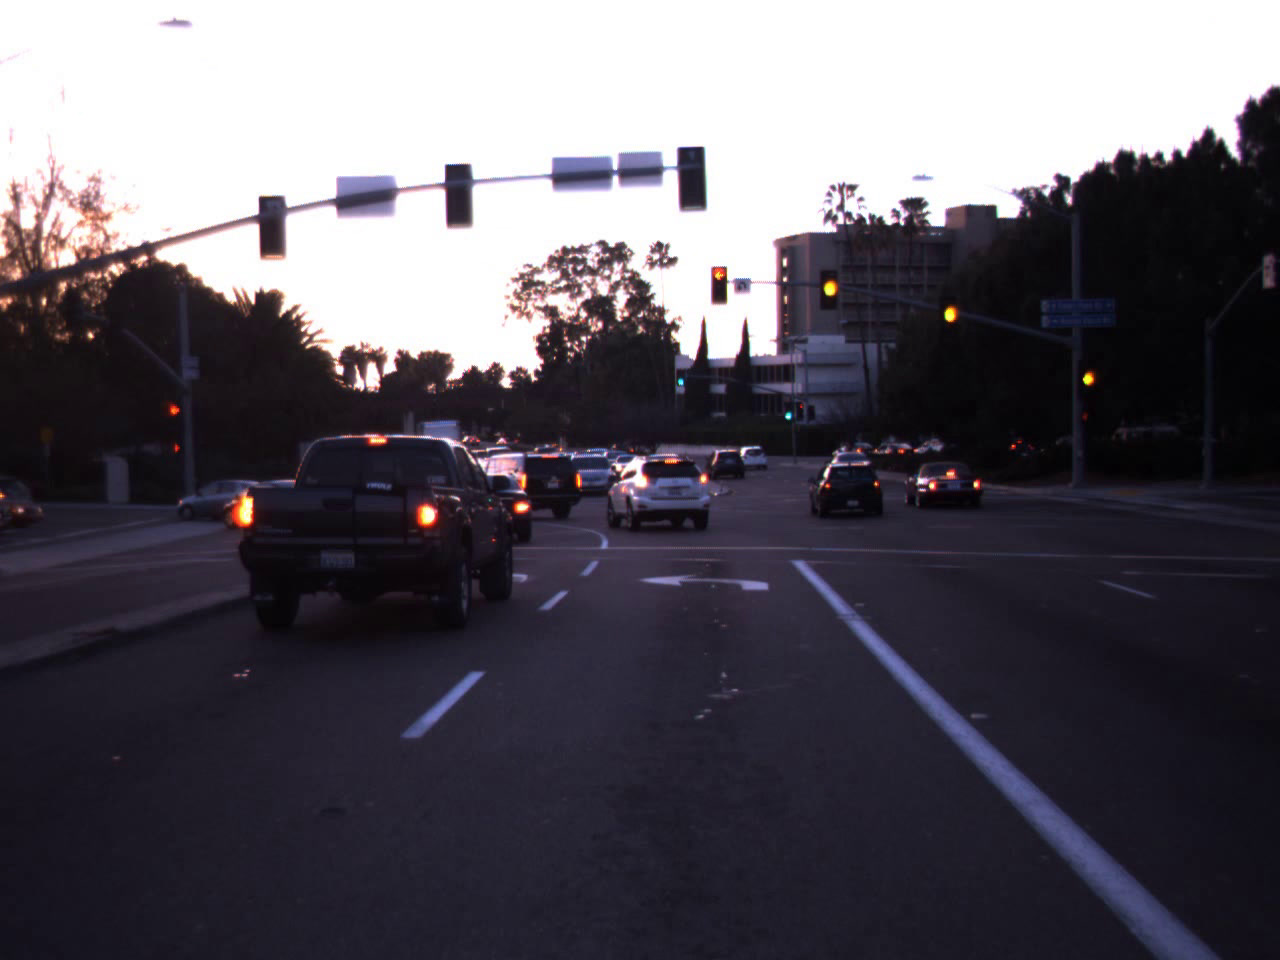go: (675, 362, 687, 387), (783, 399, 795, 419)
stop: (699, 264, 738, 301), (161, 402, 188, 438)
warning: (936, 277, 966, 344), (814, 259, 847, 308), (1079, 351, 1100, 400)
